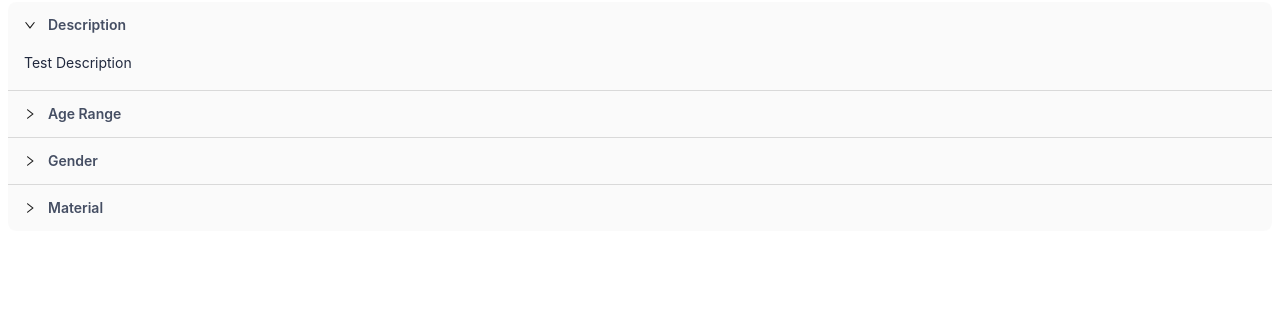
Test case: renders Attributes component
The image size is (1280, 313).
Click the button "Description": click(75, 24) 24,16 -> 126,33
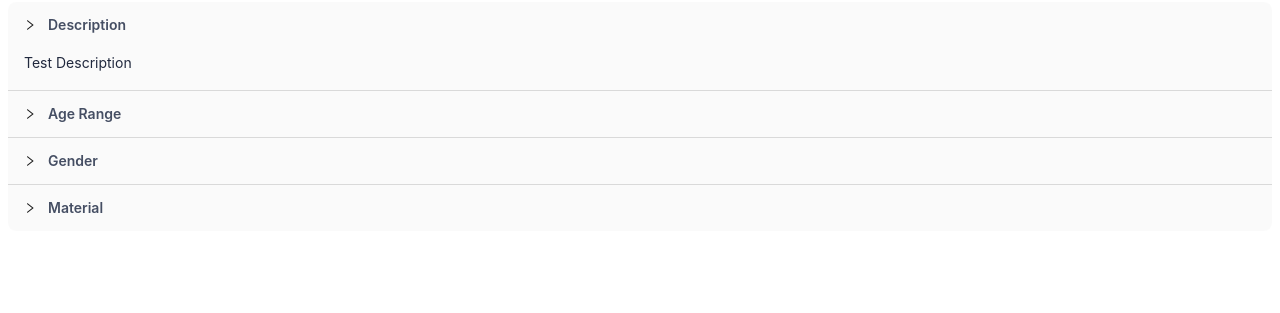
Click the button "Age Range": click(73, 114) 24,105 -> 121,122
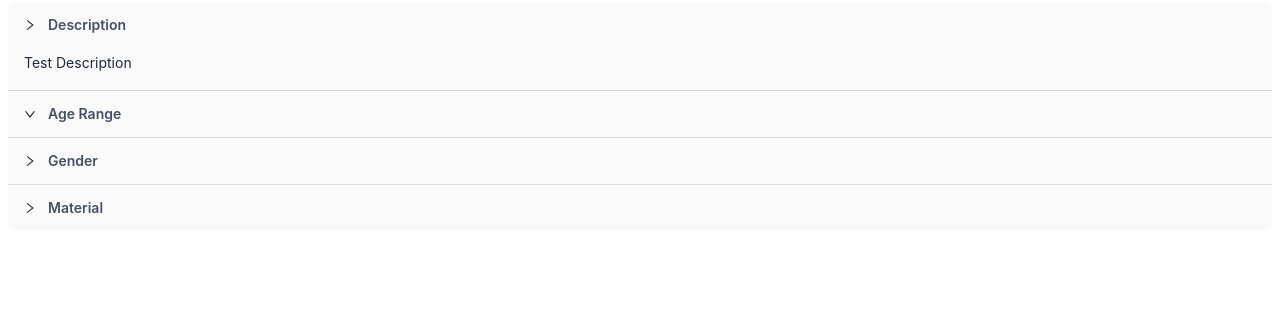
Click the button "Gender": click(61, 160) 24,152 -> 98,169
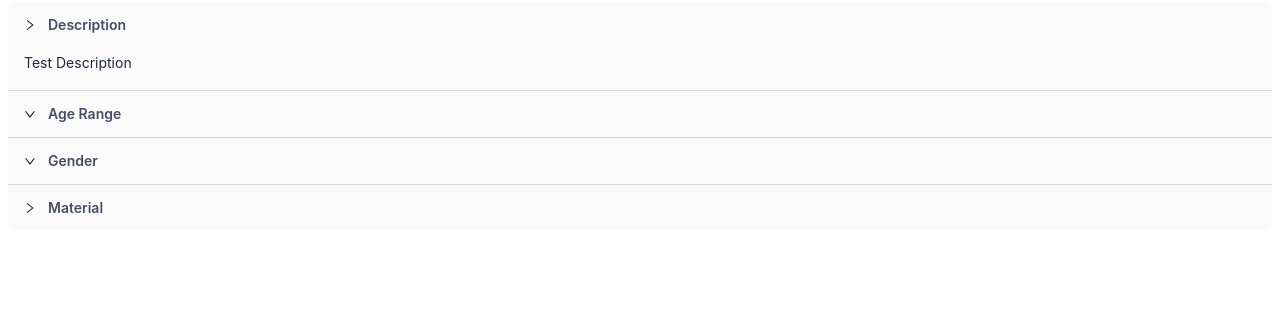
Click the button "Material": click(64, 208) 24,199 -> 103,216
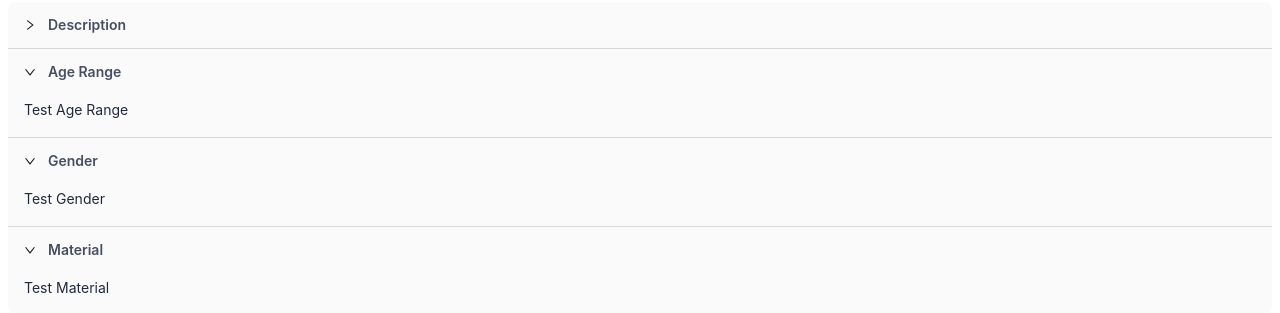
Expected: the text "Test Age Range" is shown, 24,101 -> 128,118
Expected: the text "Test Gender" is shown, 24,190 -> 105,207
Expected: the text "Test Material" is shown, 24,279 -> 109,296
